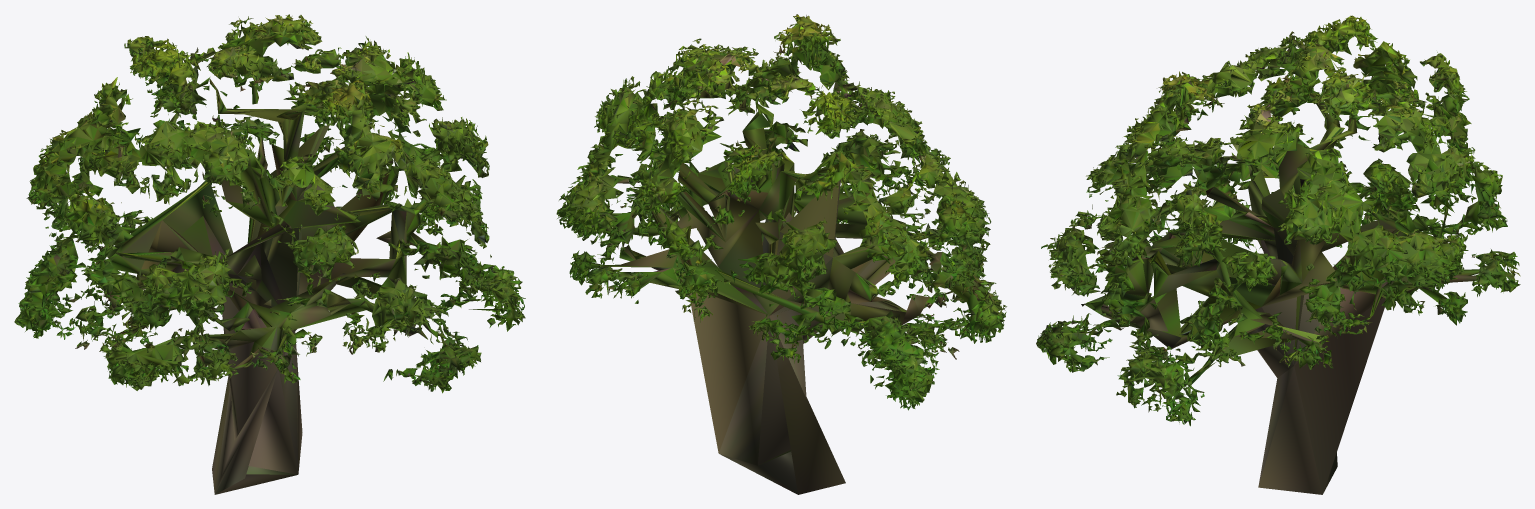
Rendered from oak-tree.glb.
3 views of the same model, side by side, from view 1: azimuth 30°, elevation 25°; view 2: azimuth 150°, elevation 25°; view 3: azimuth 270°, elevation 25° (orthographic). The views are drawn at different scales.
Visible parts, largest first — view 1: oak-tree; view 2: oak-tree; view 3: oak-tree.
Part boxes in pixels (bbox=[...]): oak-tree: bbox=[14, 14, 525, 494]; oak-tree: bbox=[556, 14, 1006, 494]; oak-tree: bbox=[1036, 15, 1520, 494].
Size of the model in its own units: 5.83 by 6.05 by 6.03.
Materials: 1 (1 with a texture image).
